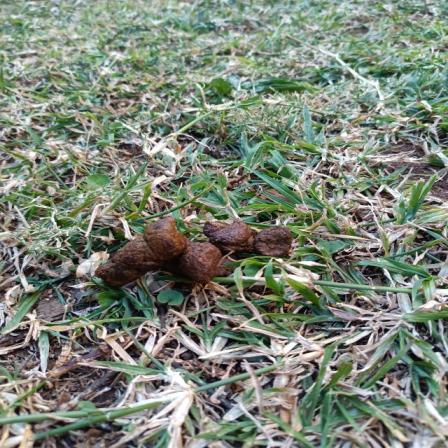dog-poop: (80, 205, 306, 294)
